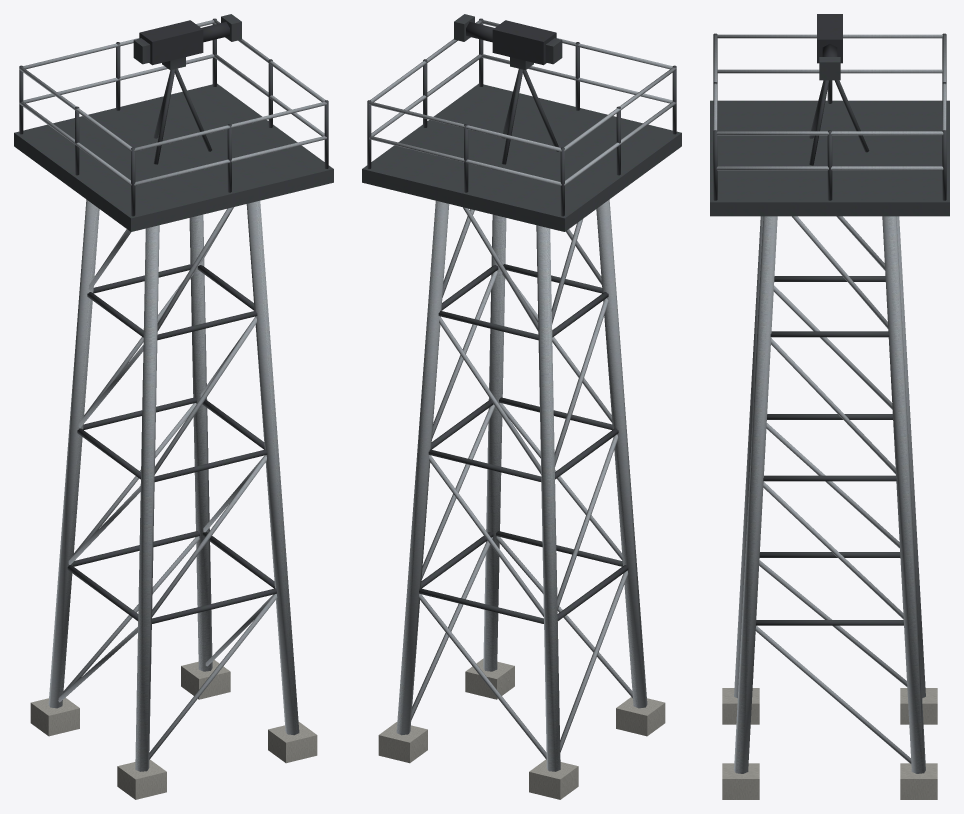
The model's file is camera-tower_mobile.glb.
The picture shows the model from 3 angles, left to right: view 1: azimuth 30°, elevation 25°; view 2: azimuth 150°, elevation 25°; view 3: azimuth 270°, elevation 25°; orthographic projection. The views are drawn at different scales.
Visible parts, largest first — view 1: galvanised, dark-steel, concrete, rubber; view 2: galvanised, dark-steel, concrete, rubber; view 3: dark-steel, galvanised, concrete, rubber.
Part boxes in pixels (box(x1,y1,x2,y2)): galvanised: box(19, 20, 326, 771); dark-steel: box(14, 14, 333, 623); concrete: box(30, 660, 317, 799); rubber: box(139, 20, 229, 65); galvanised: box(369, 20, 676, 771); dark-steel: box(362, 14, 681, 623); concrete: box(378, 658, 665, 799); rubber: box(466, 20, 556, 65); dark-steel: box(710, 33, 949, 625); galvanised: box(713, 34, 946, 773); concrete: box(722, 688, 937, 799); rubber: box(817, 14, 842, 63).
Size of the model in its own units: 3.1 by 10.36 by 3.1.
5 materials, 4 textured.
